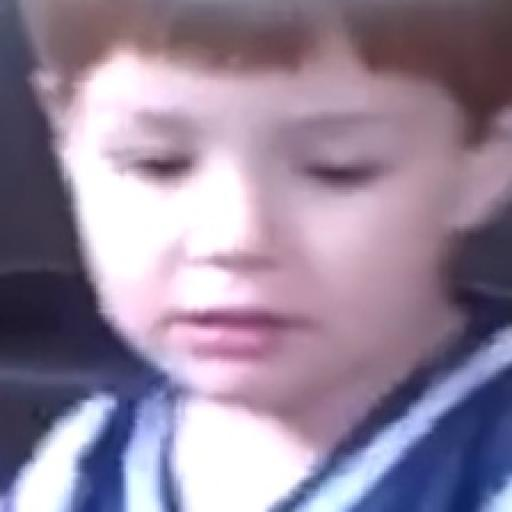Autism: (53, 6, 512, 439)
